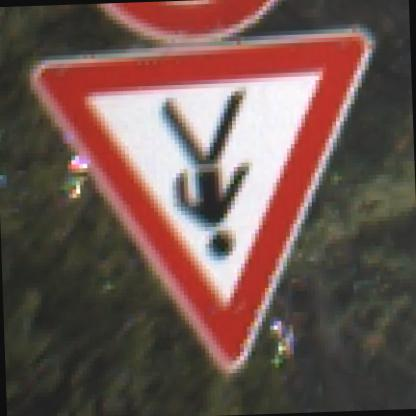crosswalk: (24, 25, 400, 385)
